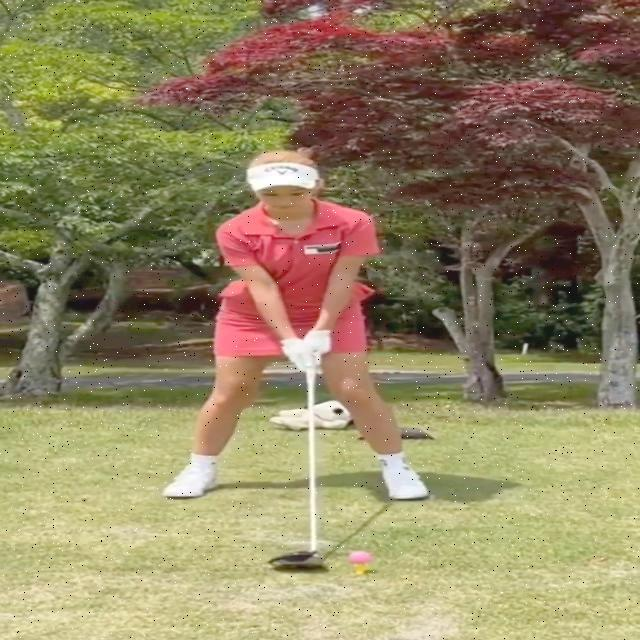ClubHandle: (269, 371, 325, 567)
ClubHead: (270, 552, 325, 567)
GolfBall: (349, 551, 370, 564)
